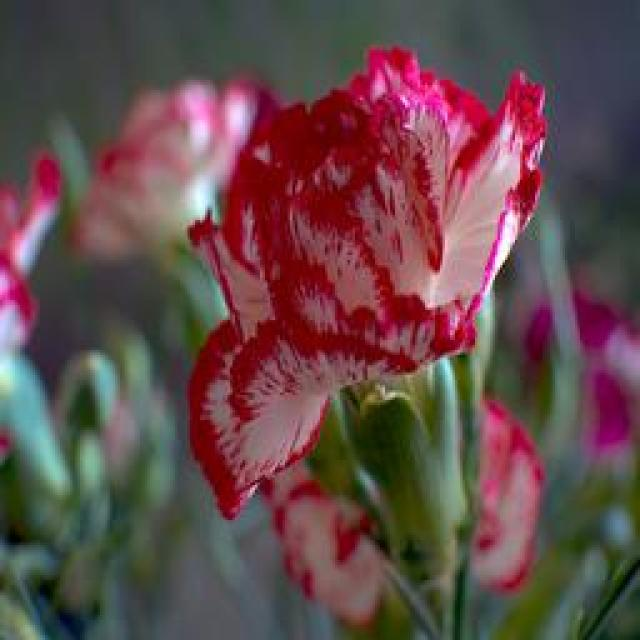carnation: (198, 44, 565, 439)
